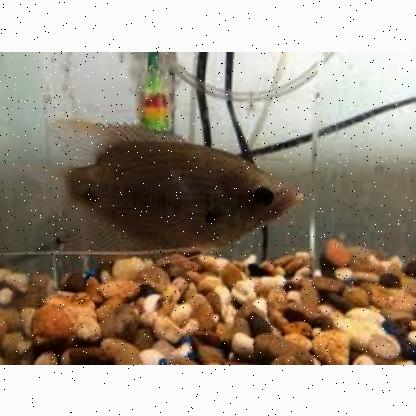gurame: (38, 120, 296, 264)
